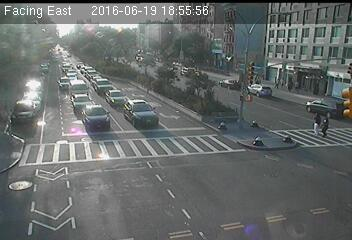neg: (132, 50, 145, 67), (174, 46, 187, 62), (150, 49, 162, 66), (314, 80, 325, 95), (220, 57, 231, 72)
pos: (319, 114, 336, 137), (309, 111, 326, 134), (272, 76, 282, 88), (278, 76, 287, 88), (293, 79, 302, 90)
